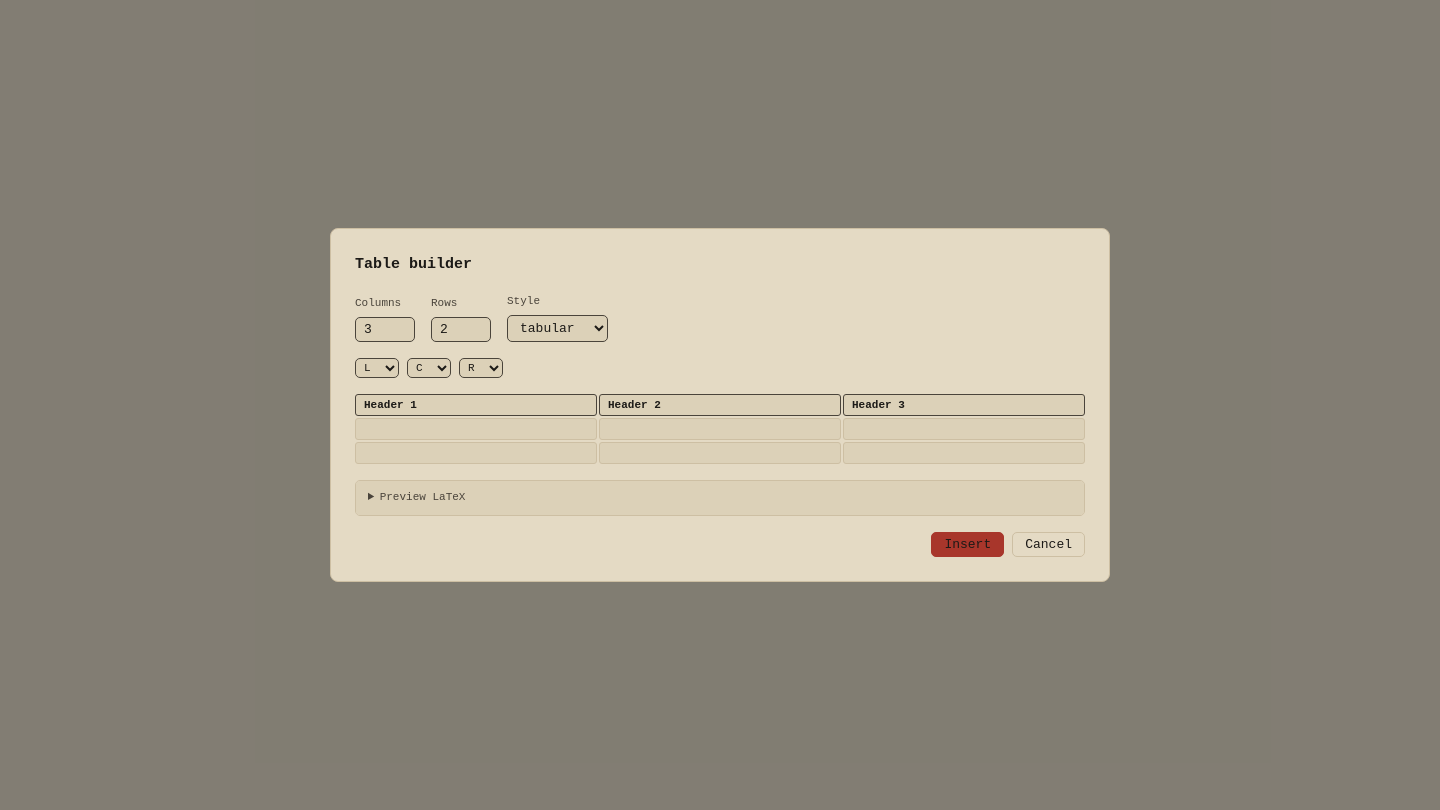
Scenario: TableBuilder › adds columns when column count is increased
Replace the text in the number field labelled "Columns" with "5" at [385, 330], box [355,317,415,342]
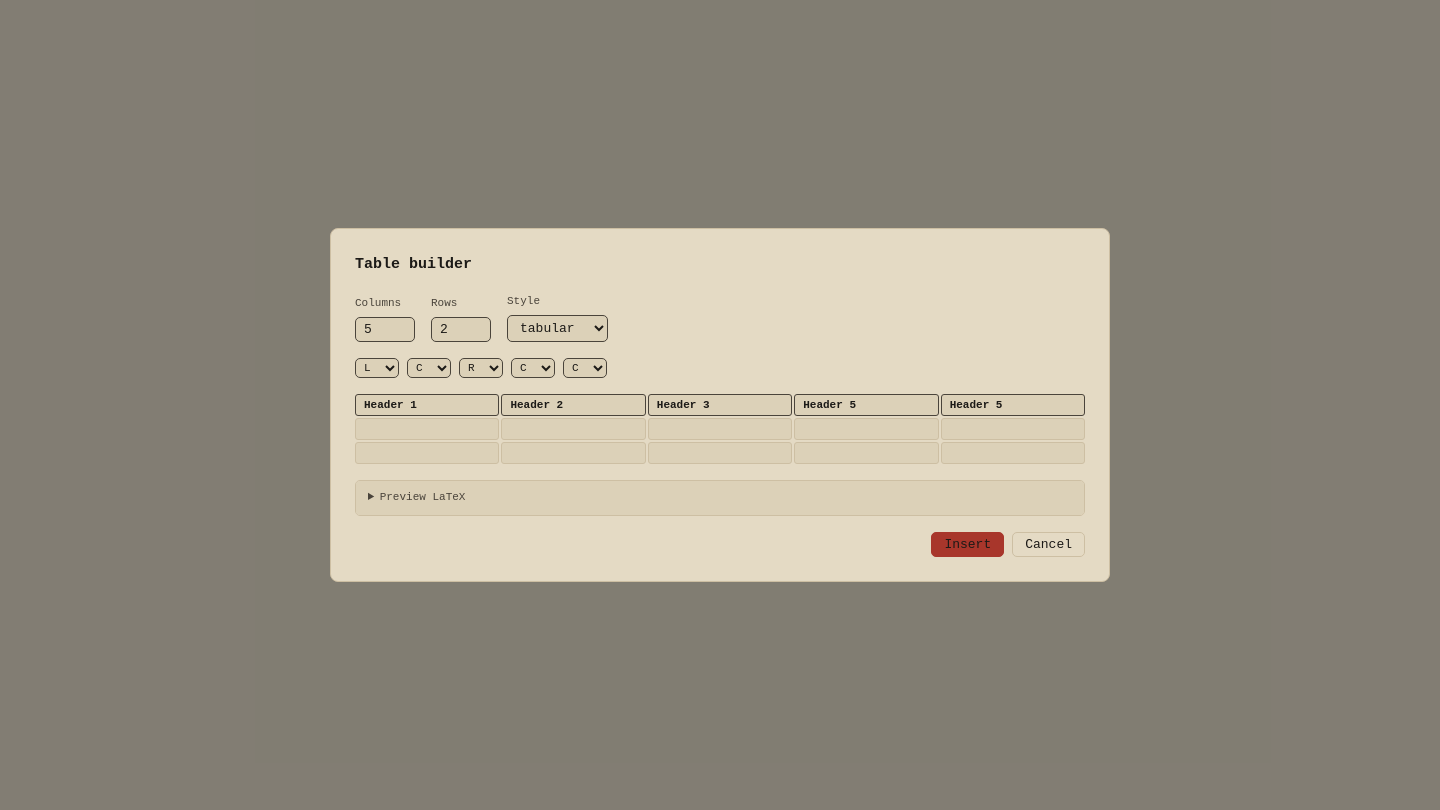
Expected: the field named "Header 5" is shown, [941,394,1085,416]
